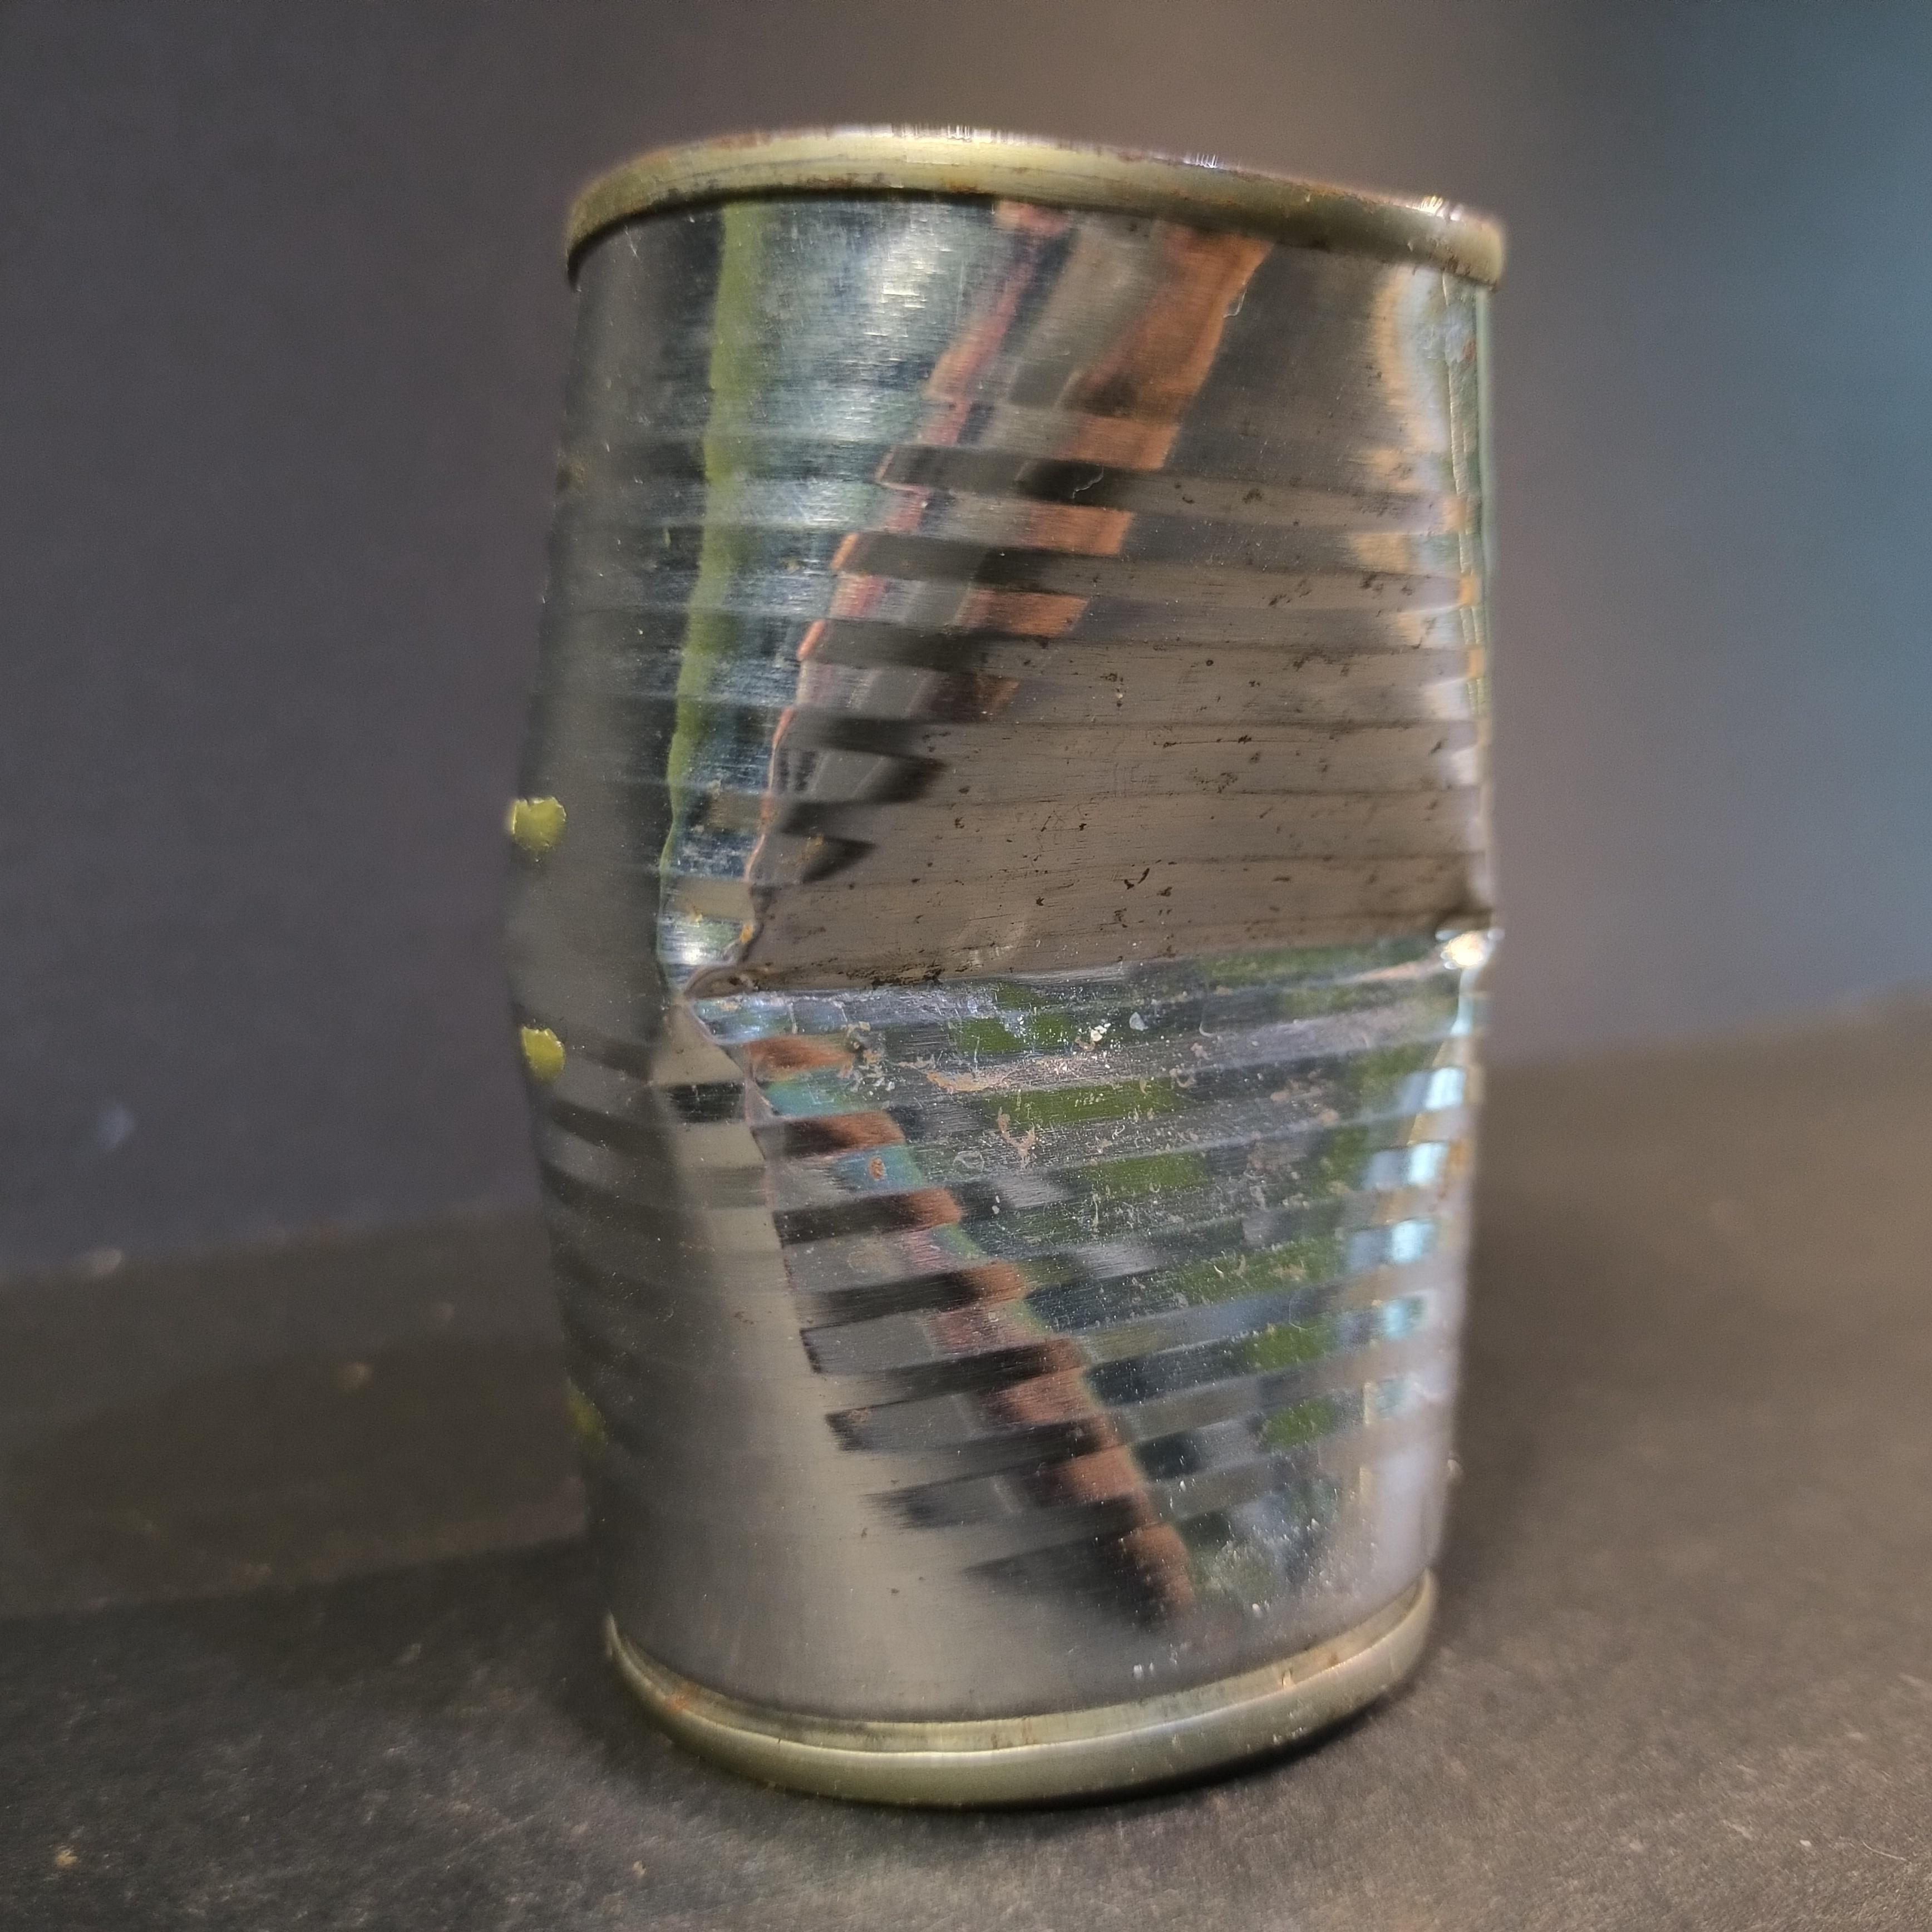Major Defect: (499, 122, 1511, 1808)
